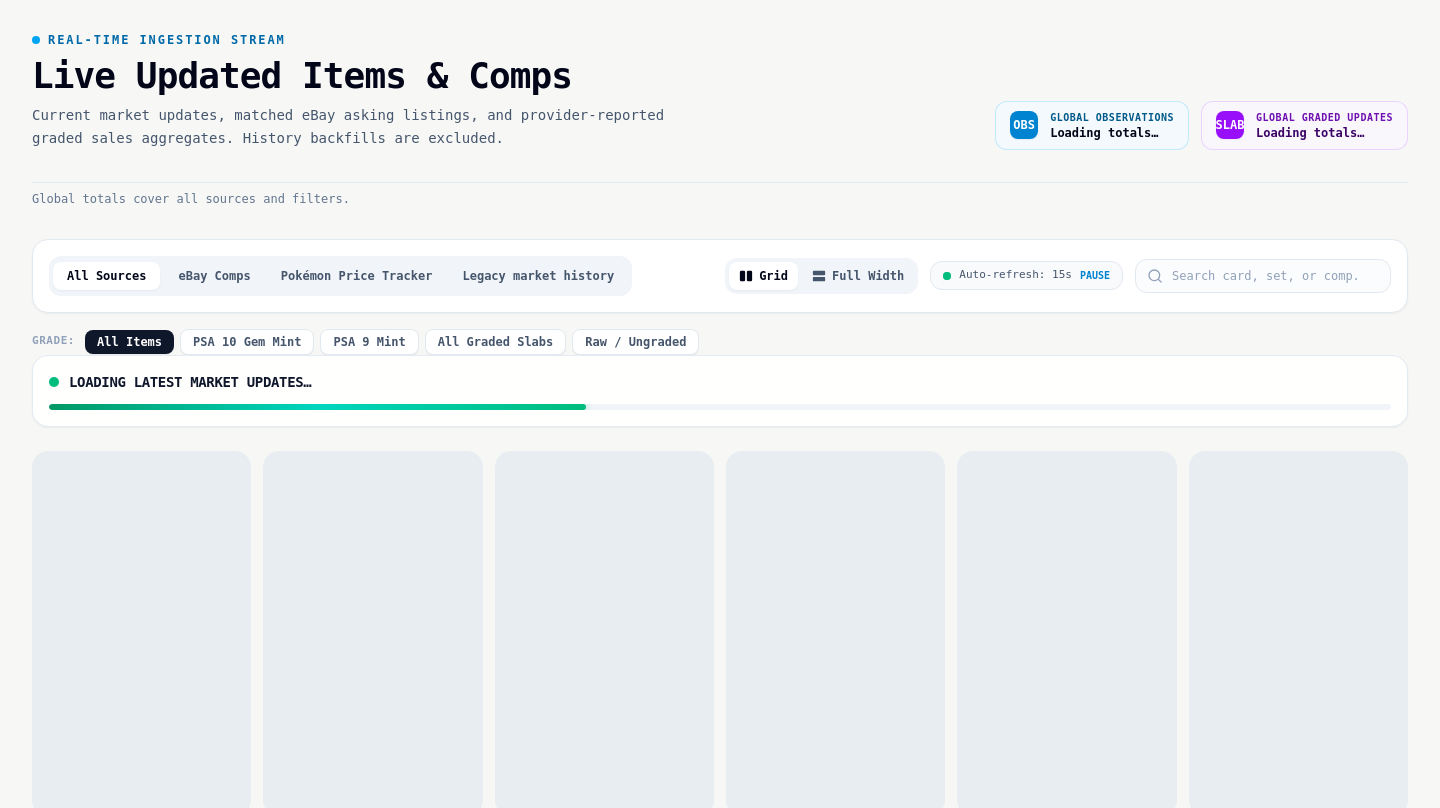
Test: ignores obsolete filter responses while totals remain pending
The image size is (1440, 808).
In the field: point(1263, 276) [1135, 258, 1391, 292], type "new"
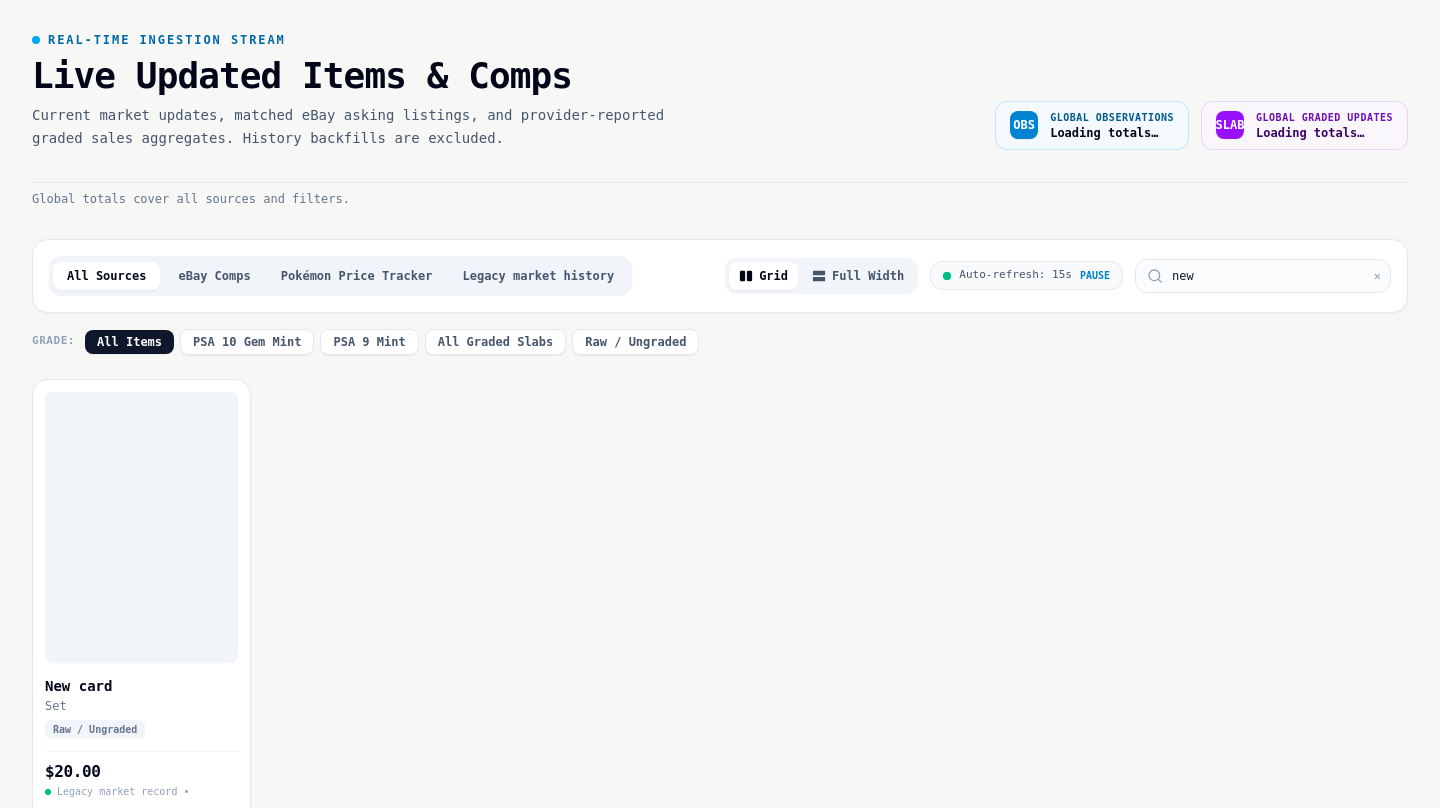
expect the text "Loading totals…" is shown 2 times: met, box [1050, 124, 1174, 140]; [1256, 126, 1364, 140]
expect the link "New card" is shown: met, box [45, 676, 112, 696]
